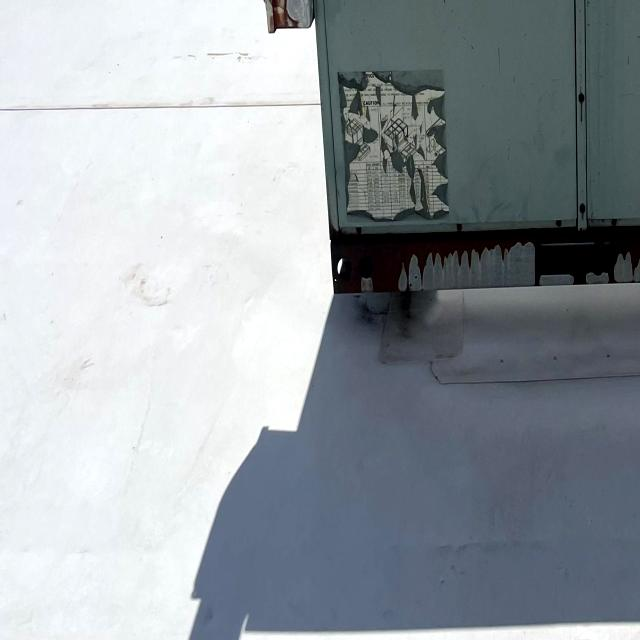RTU: (244, 0, 639, 310)
